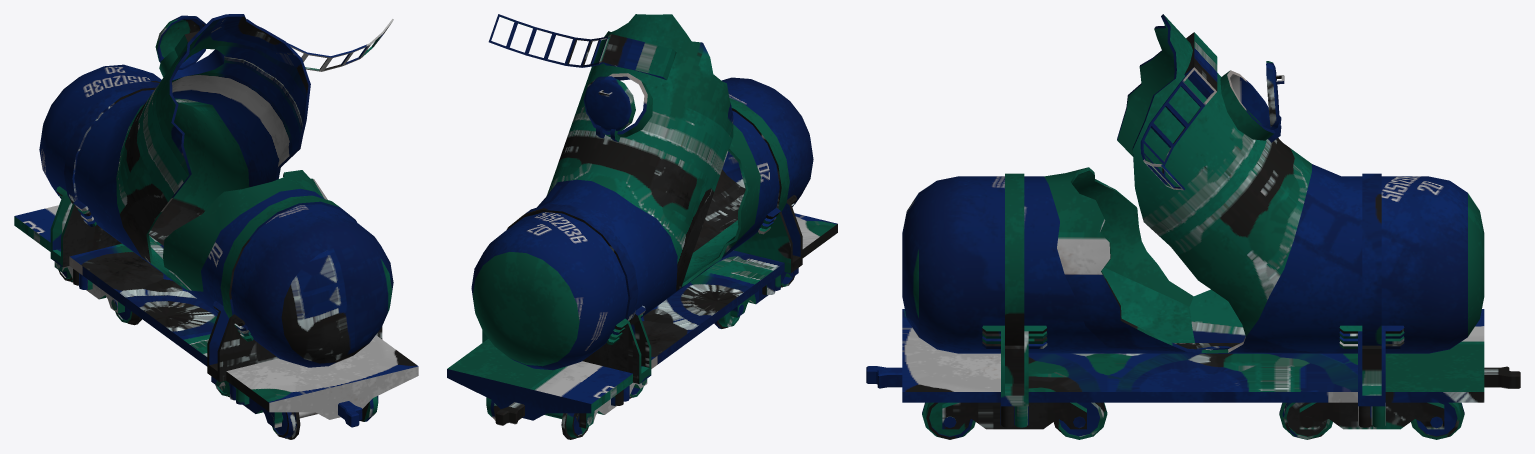
Rendered from Tank car Destroid.fbx.
3 renders of one model, left to right at view 1: azimuth 30°, elevation 25°; view 2: azimuth 150°, elevation 25°; view 3: azimuth 270°, elevation 25°, orthographic. The views are drawn at different scales.
Visible parts, largest first — view 1: Tank car Destroid; view 2: Tank car Destroid; view 3: Tank car Destroid.
Part boxes in pixels (x1,y1,x2,y2): Tank car Destroid: [14, 14, 418, 439]; Tank car Destroid: [447, 14, 837, 439]; Tank car Destroid: [866, 14, 1520, 439].
Bounding box in the file's own units: 821 × 1110 × 1668.
